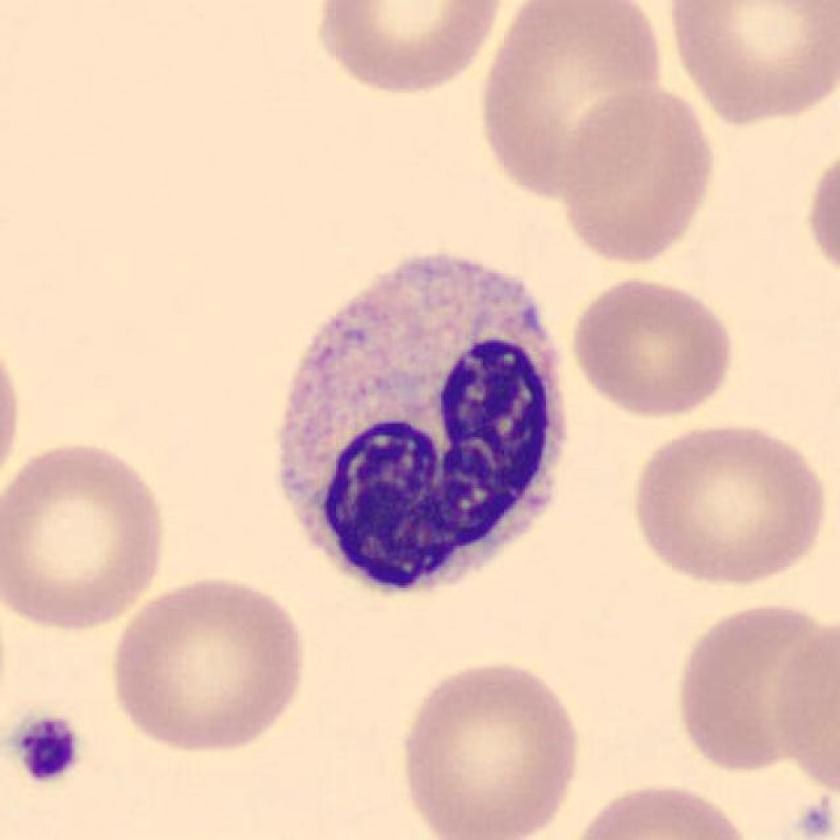neutrophil: (280, 255, 566, 591)
